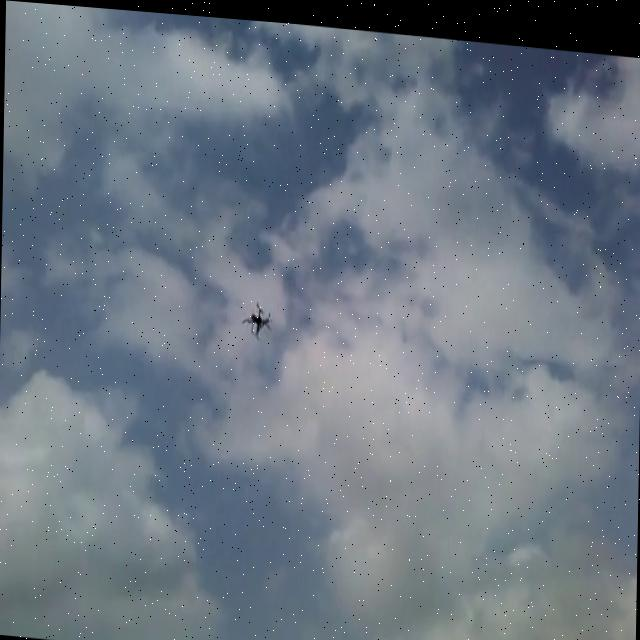drone: (240, 293, 273, 335)
